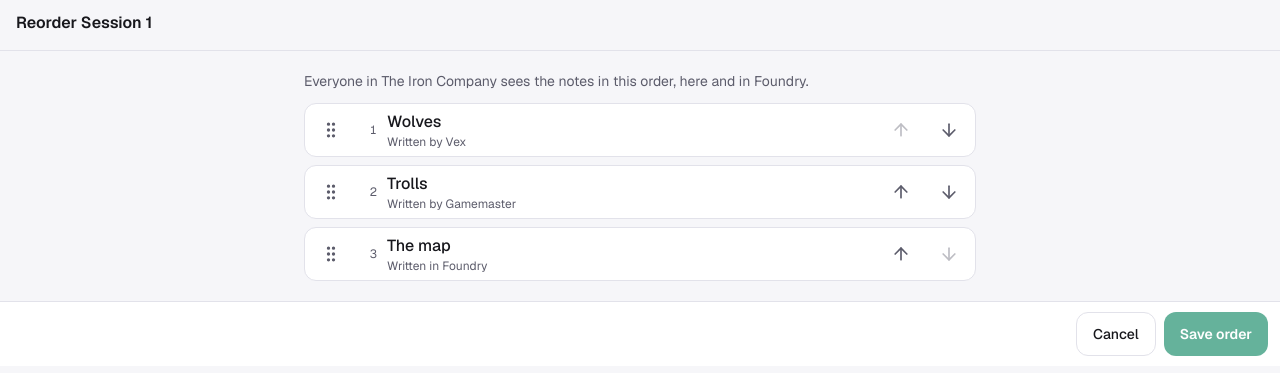
Test case: components/notes/reorder-pane › offers Save order only once the order differs from the one it opened with
This screenshot has width=1280, height=373.
Check: the button "Save order" is disabled, box top-left (1164, 312), bottom-right (1268, 356)
Click the button named "Move The map up".
click(901, 254)  # box top-left (879, 232), bottom-right (923, 276)
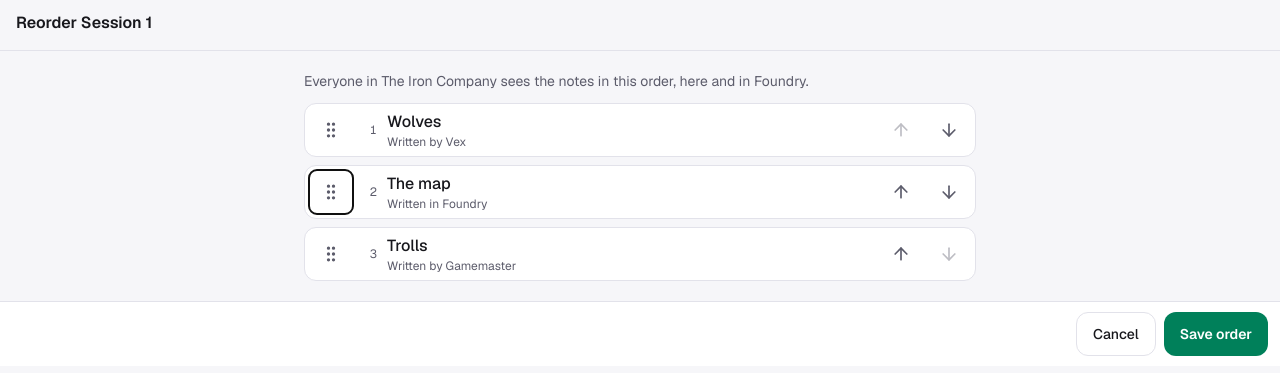
Check: the button "Save order" is enabled, box top-left (1164, 312), bottom-right (1268, 356)
Put back as it was, there's nothing to save again.
Click the button named "Move The map down".
click(949, 192)  # box top-left (927, 170), bottom-right (971, 214)
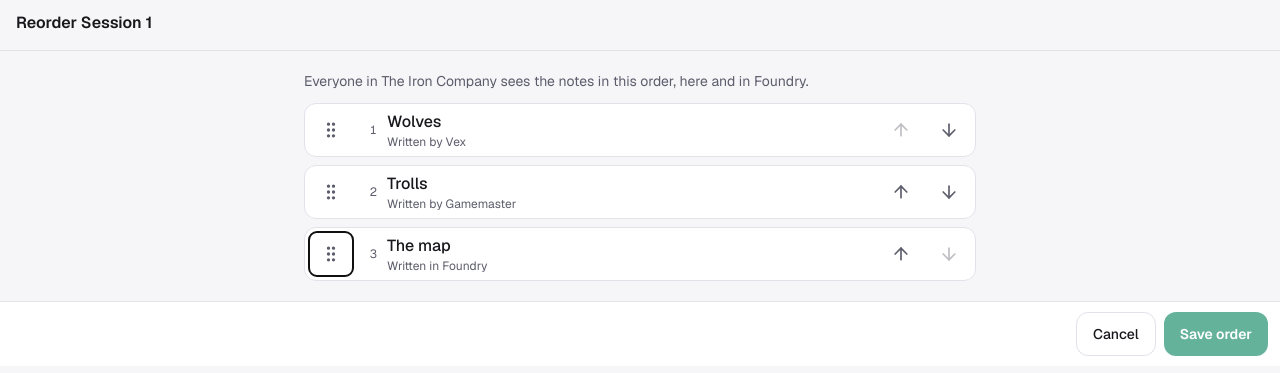
Check: the button "Save order" is disabled, box top-left (1164, 312), bottom-right (1268, 356)
